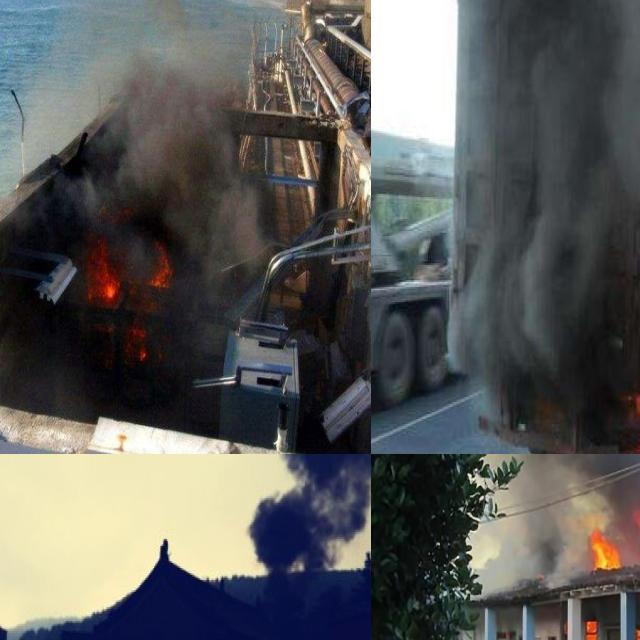fire: (82, 199, 177, 357), (586, 525, 622, 575), (583, 619, 599, 640)
smoke: (448, 0, 640, 380), (118, 49, 266, 296), (0, 1, 116, 199), (484, 454, 640, 592), (246, 454, 371, 573)
